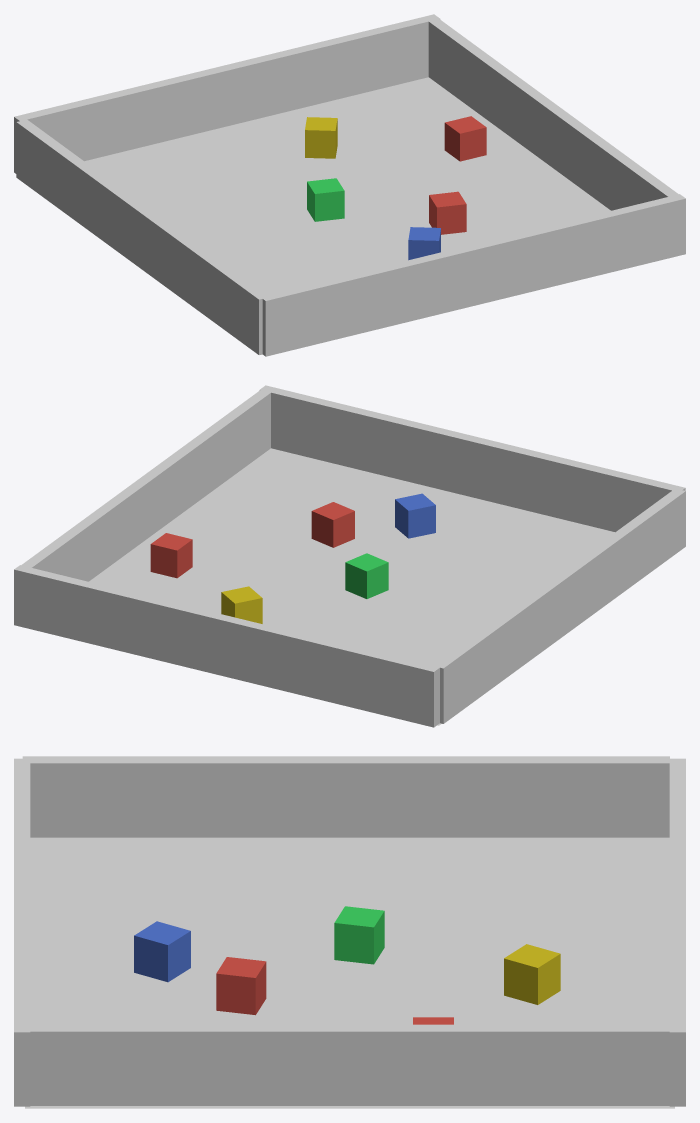
The model's file is testlevel.dae.
3 renders of one model, top to bottom at view 1: azimuth 30°, elevation 25°; view 2: azimuth 150°, elevation 25°; view 3: azimuth 270°, elevation 25°, orthographic. The views are drawn at different scales.
Parts seen in each view (by area): view 1: Walls-col, StaticLevel, player-rigidbody, GreenBox, RedBox, YellowBox, BlueBox; view 2: Walls-col, StaticLevel, GreenBox, RedBox, player-rigidbody, BlueBox, YellowBox; view 3: Walls-col, StaticLevel, BlueBox, YellowBox, GreenBox, RedBox.
Boxes of the visible parts, bbox=[...] form: Walls-col: bbox=[14, 14, 685, 356]; StaticLevel: bbox=[84, 77, 610, 354]; player-rigidbody: bbox=[444, 116, 486, 161]; GreenBox: bbox=[307, 178, 344, 221]; RedBox: bbox=[429, 191, 466, 234]; YellowBox: bbox=[305, 117, 337, 158]; BlueBox: bbox=[408, 227, 440, 260]; Walls-col: bbox=[14, 385, 685, 727]; StaticLevel: bbox=[89, 448, 614, 725]; GreenBox: bbox=[345, 553, 388, 598]; RedBox: bbox=[311, 502, 354, 547]; player-rigidbody: bbox=[150, 533, 192, 578]; BlueBox: bbox=[395, 493, 435, 538]; YellowBox: bbox=[221, 586, 262, 623]; Walls-col: bbox=[14, 756, 685, 1106]; StaticLevel: bbox=[25, 837, 674, 1108]; BlueBox: bbox=[134, 921, 190, 982]; YellowBox: bbox=[504, 944, 560, 1004]; GreenBox: bbox=[334, 906, 384, 964]; RedBox: bbox=[216, 957, 266, 1015].
Size of the model in its own units: 15.97 by 16.4 by 2.04.
